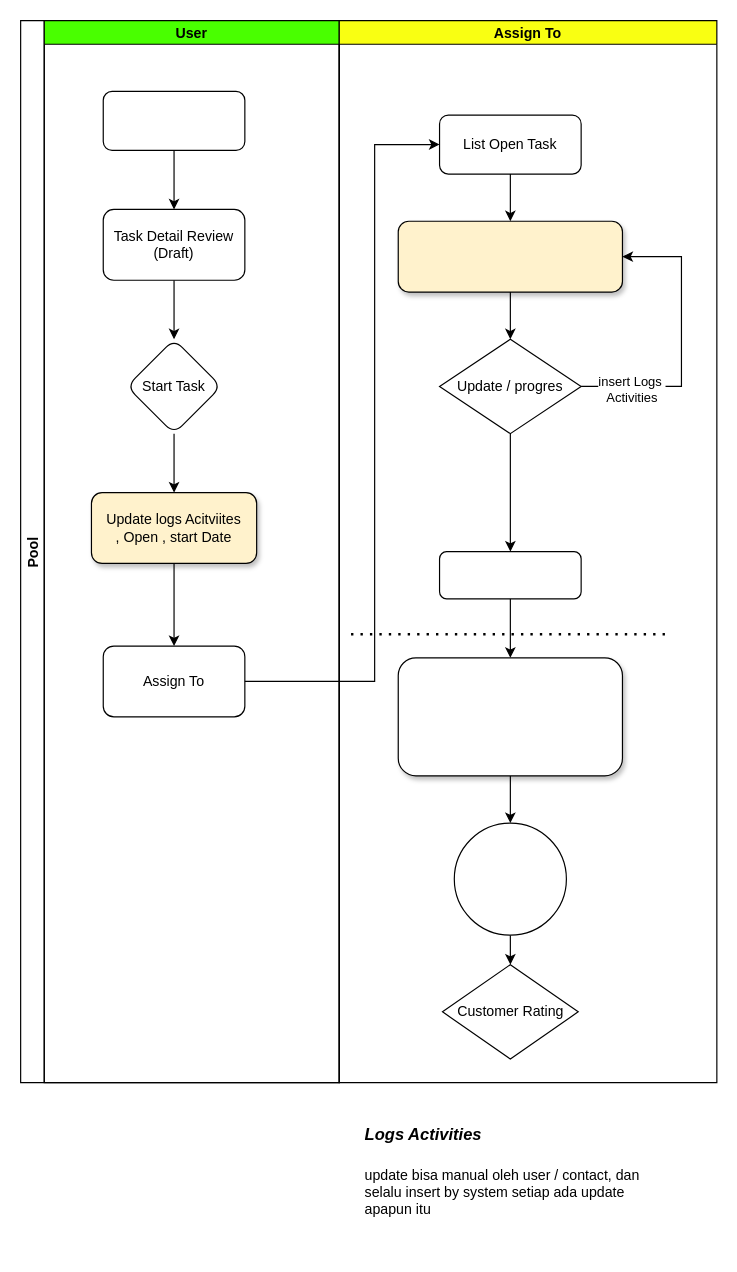
Image size: 737x1272. Some labels were removed from this diagram. The shapes that lost their labels are listed below. From the top down, each one's centre as x and y in pixels, then its label:
At point (173, 120): "new Task".
At point (511, 257): "Logs Activities Task*".
At point (509, 574): "Closed".
At point (511, 718): "Update semua field yang berhubungan dengan CLOSE SUMMARY".
At point (509, 878): "Closed Task STOP DATETIME".
